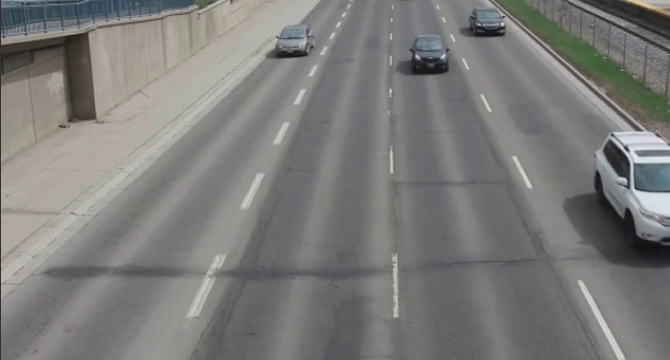car: (590, 126, 670, 259), (407, 33, 453, 78), (274, 21, 316, 59), (466, 7, 513, 36)
